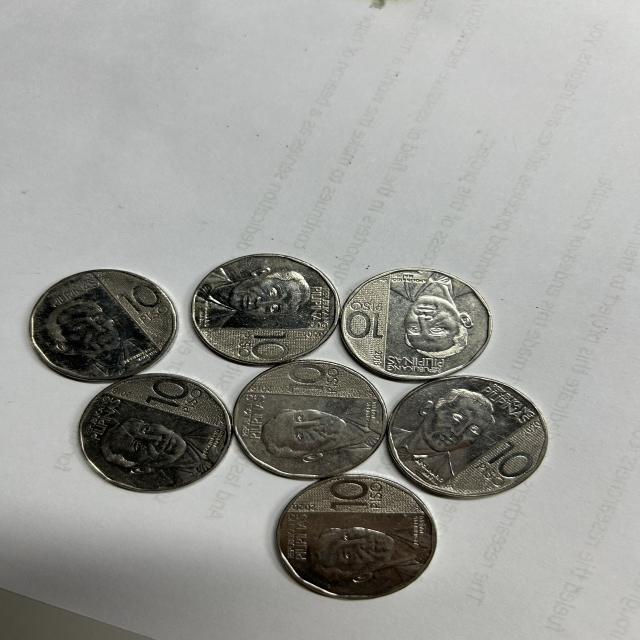10_New_Front: (478, 436, 528, 493), (282, 361, 352, 399), (344, 291, 385, 349), (230, 329, 292, 367), (326, 478, 385, 517), (116, 286, 168, 326), (149, 377, 205, 413)
